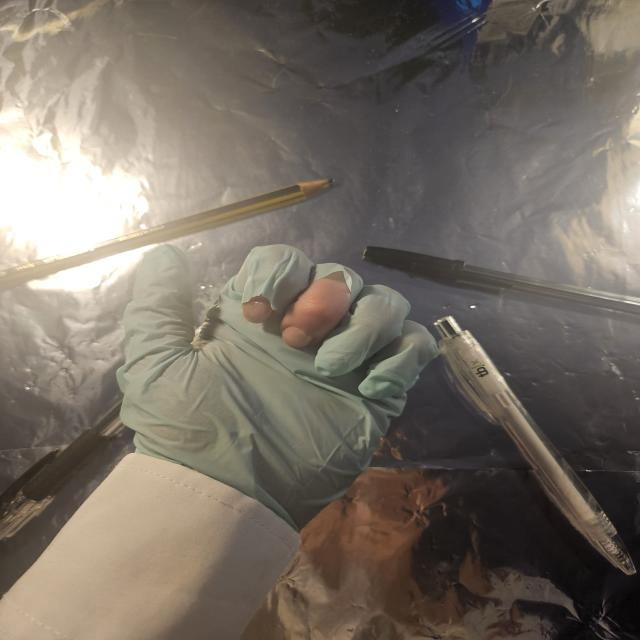gloves_damaged: (116, 242, 444, 534)
